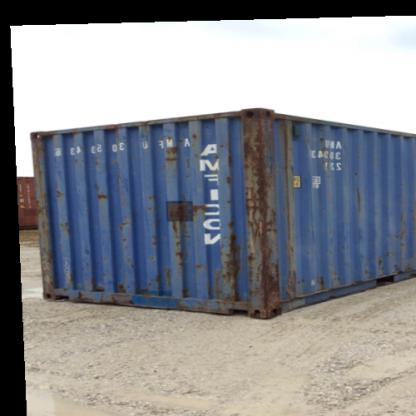Damage: (242, 114, 282, 320), (280, 117, 303, 294), (213, 213, 243, 318), (168, 201, 192, 269), (114, 209, 138, 270), (144, 188, 166, 249), (215, 138, 236, 185), (314, 129, 335, 176), (388, 208, 409, 250), (156, 130, 179, 168), (147, 262, 175, 290), (350, 167, 366, 215), (112, 279, 145, 301), (88, 273, 112, 302), (173, 283, 195, 311), (87, 176, 111, 201), (372, 248, 388, 283), (391, 253, 411, 280), (62, 264, 81, 292), (312, 266, 330, 295), (183, 131, 202, 156), (57, 214, 76, 236), (82, 240, 96, 262), (191, 200, 208, 218), (50, 182, 66, 199), (194, 256, 203, 274), (222, 193, 232, 208)
